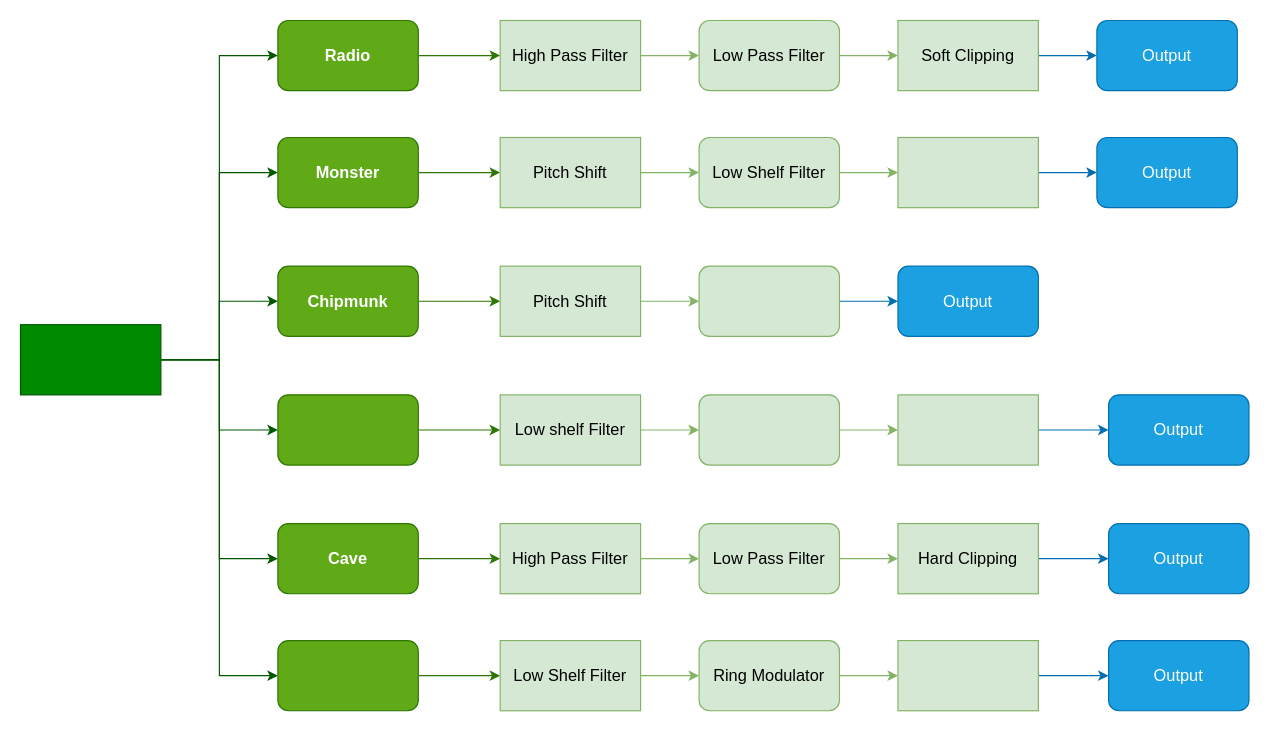
The diagram is 1269 pixels wide and 731 high, and some of its shapes have lost their labels. The centre of each missing label's shape, as x and y in pixels:
Bit-crusher: the point at 967,675
Delay: the point at 768,429
Gain: the point at 967,172
High Shelf filter: the point at 768,300
Megaphone: the point at 347,429
Reverb: the point at 967,429
Robot: the point at 347,675
Voice Input: the point at 90,359
